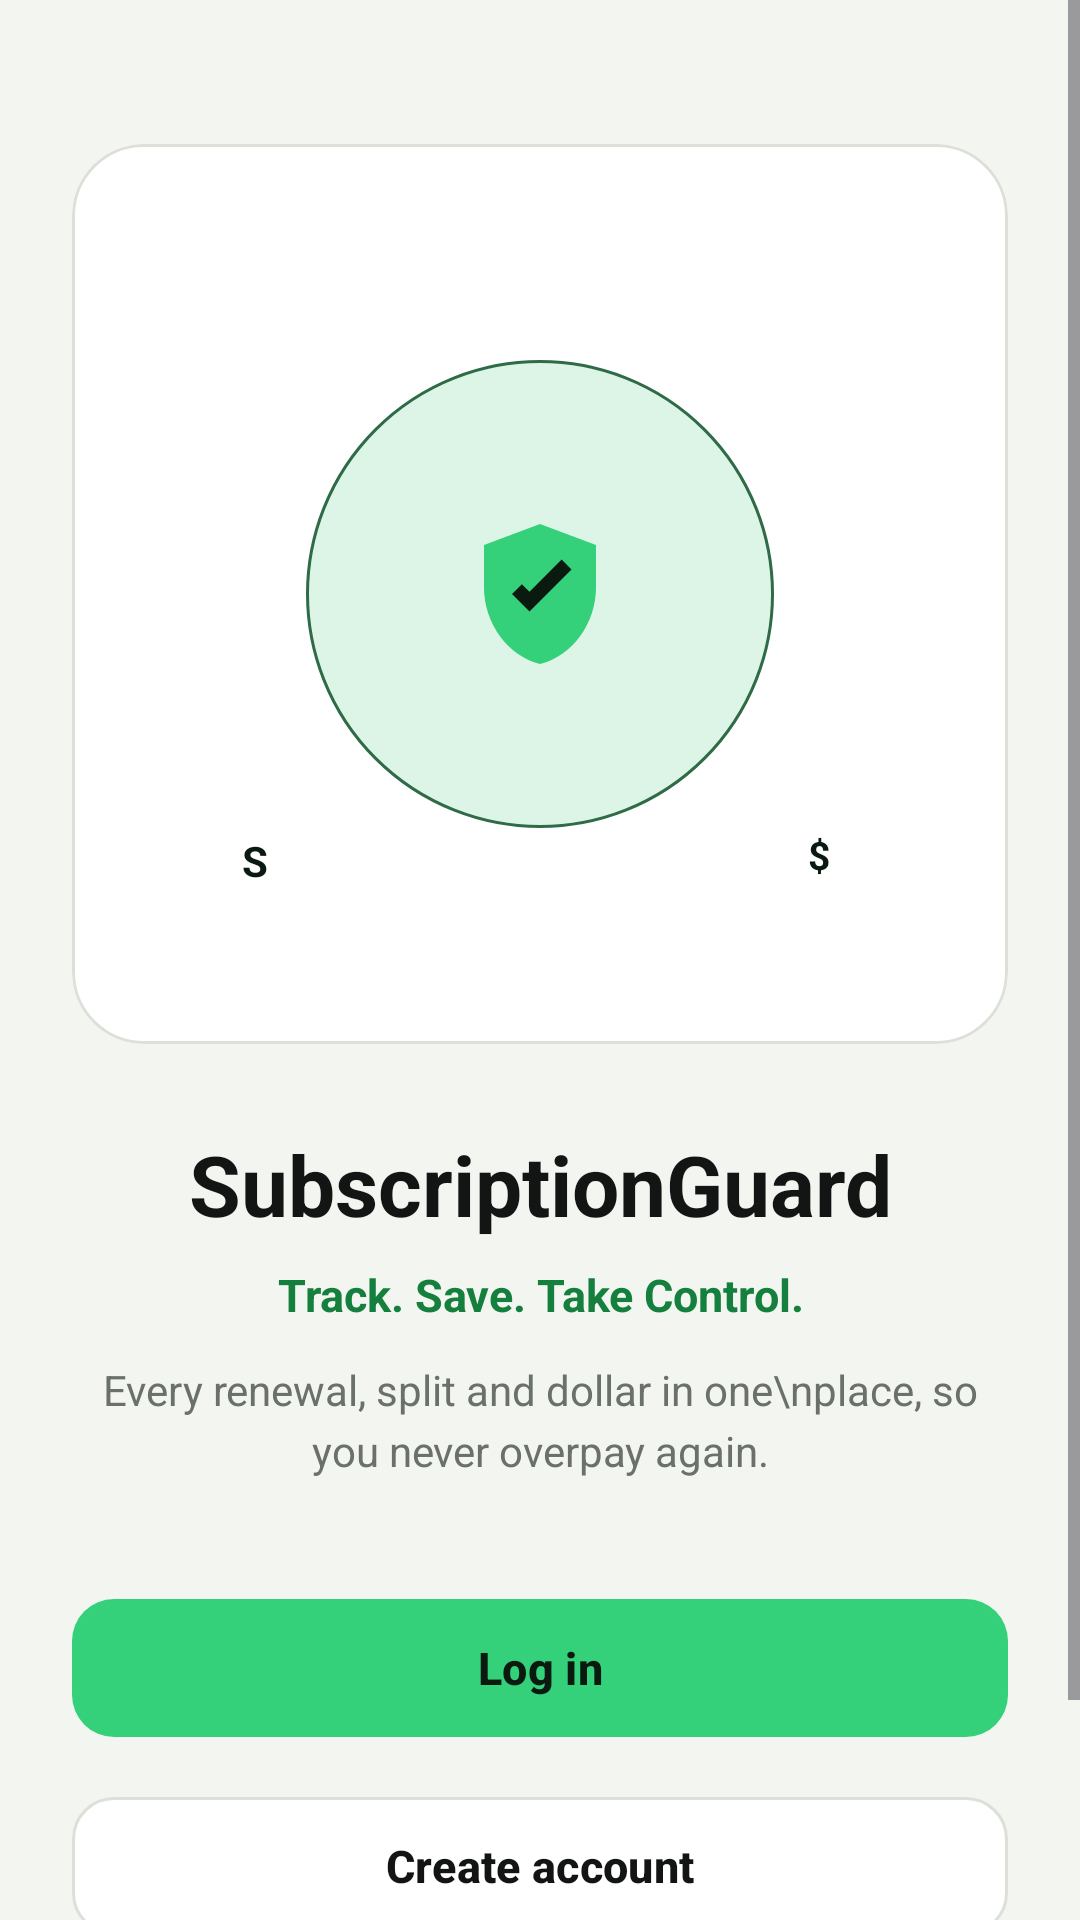

Where to tap for icons on this 1080 × 1920 app screen, as [x,y]:
SubscriptionGuard Shield: [540,594]
